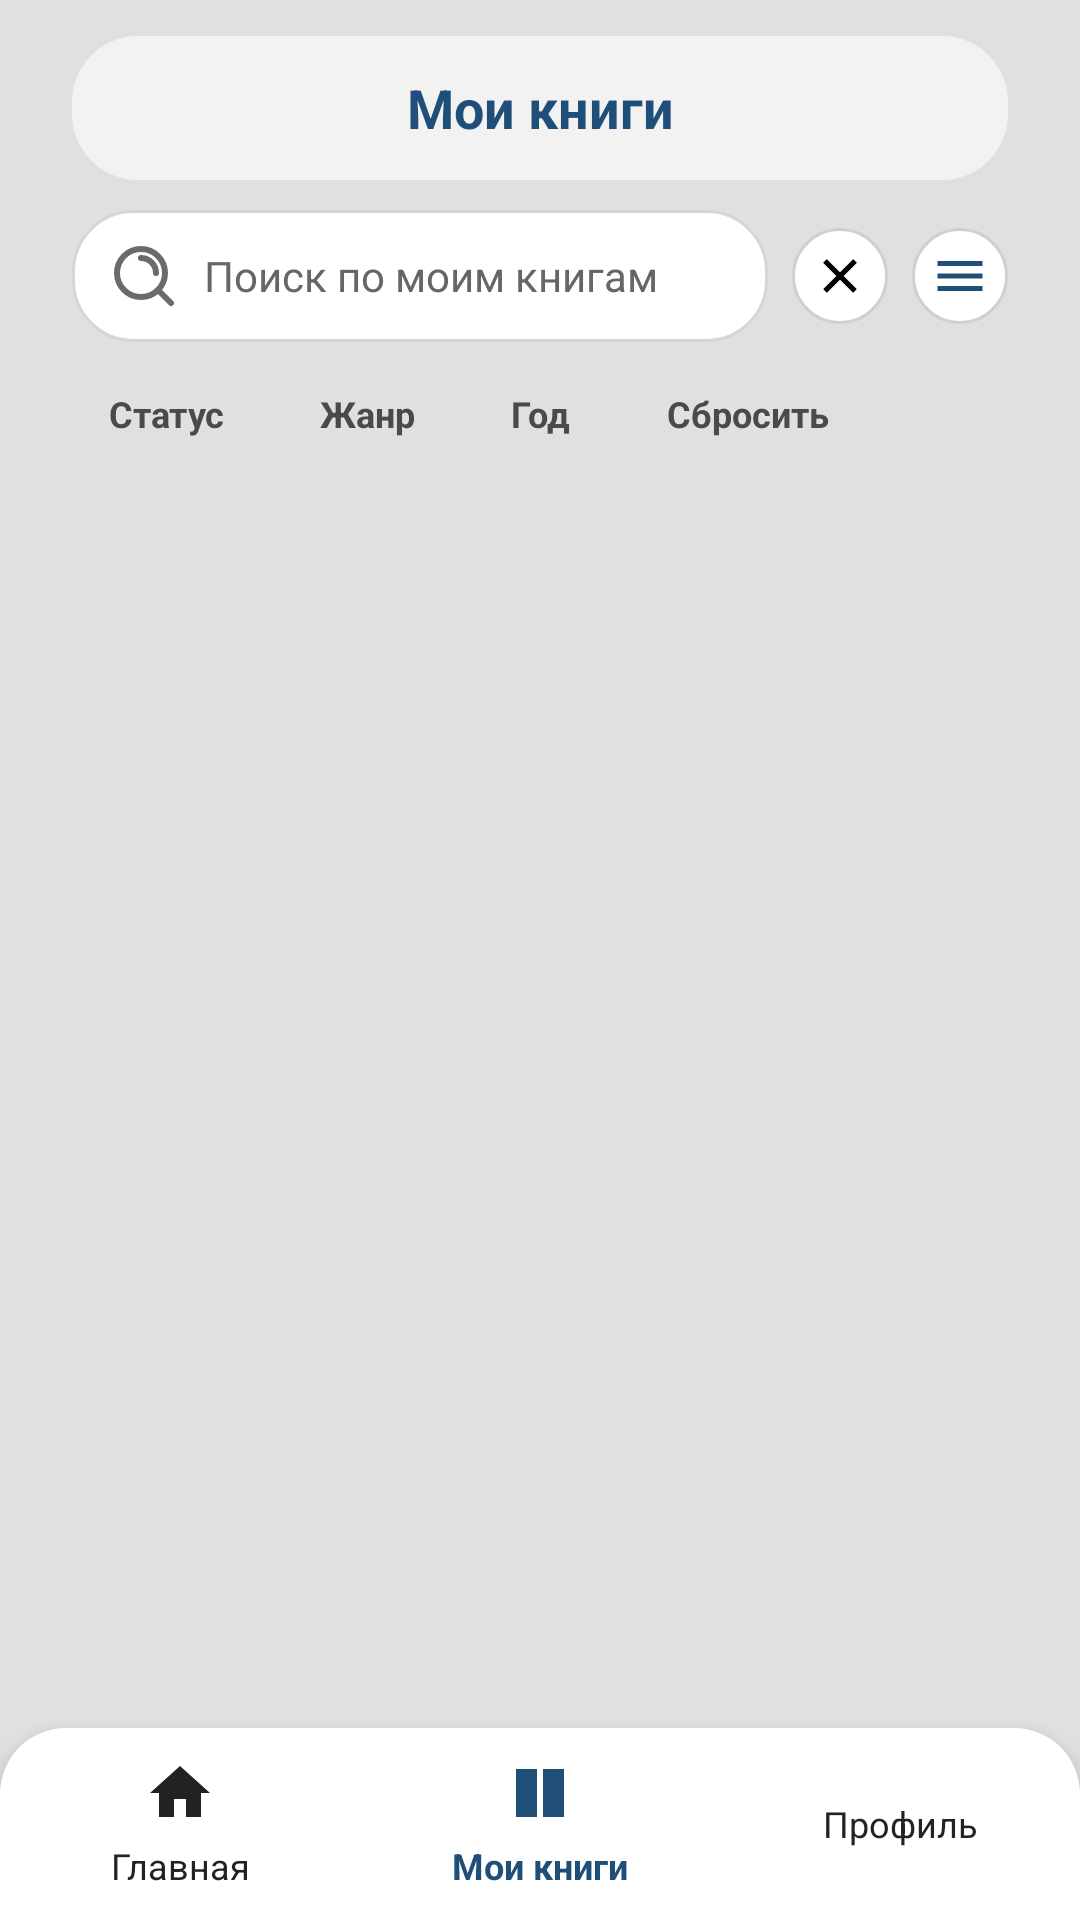

Locate icon controls on the screen. Image size 1080*1920, boxes as (x1, y1, x2, y2).
Очистить поиск: (795, 231, 885, 321)
